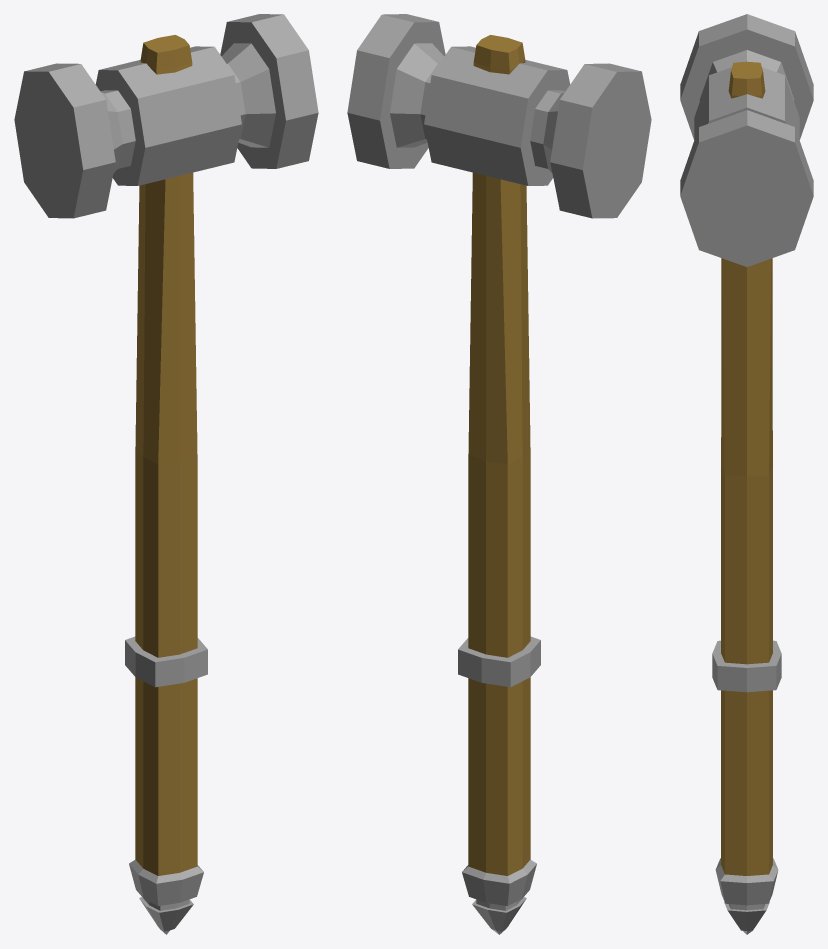
The model's file is Hammer.fbx.
The picture shows the model from 3 angles, left to right: view 1: azimuth 30°, elevation 25°; view 2: azimuth 150°, elevation 25°; view 3: azimuth 270°, elevation 25°; orthographic projection. The views are drawn at different scales.
Parts seen in each view (by area): view 1: Hammer; view 2: Hammer; view 3: Hammer.
Boxes of the visible parts, box(x1,y1,x2,y2) form: Hammer: box(14, 14, 318, 934); Hammer: box(347, 14, 651, 934); Hammer: box(680, 14, 813, 934).
Bounding box in the file's own units: 0.2993 × 1.08 × 0.1516.
